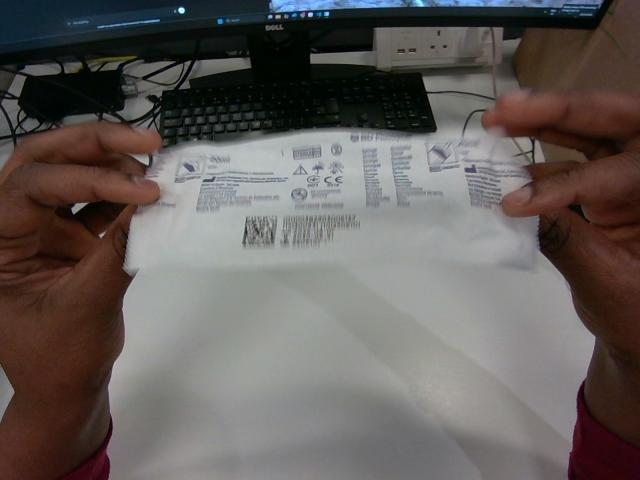syringe: (125, 130, 537, 271)
